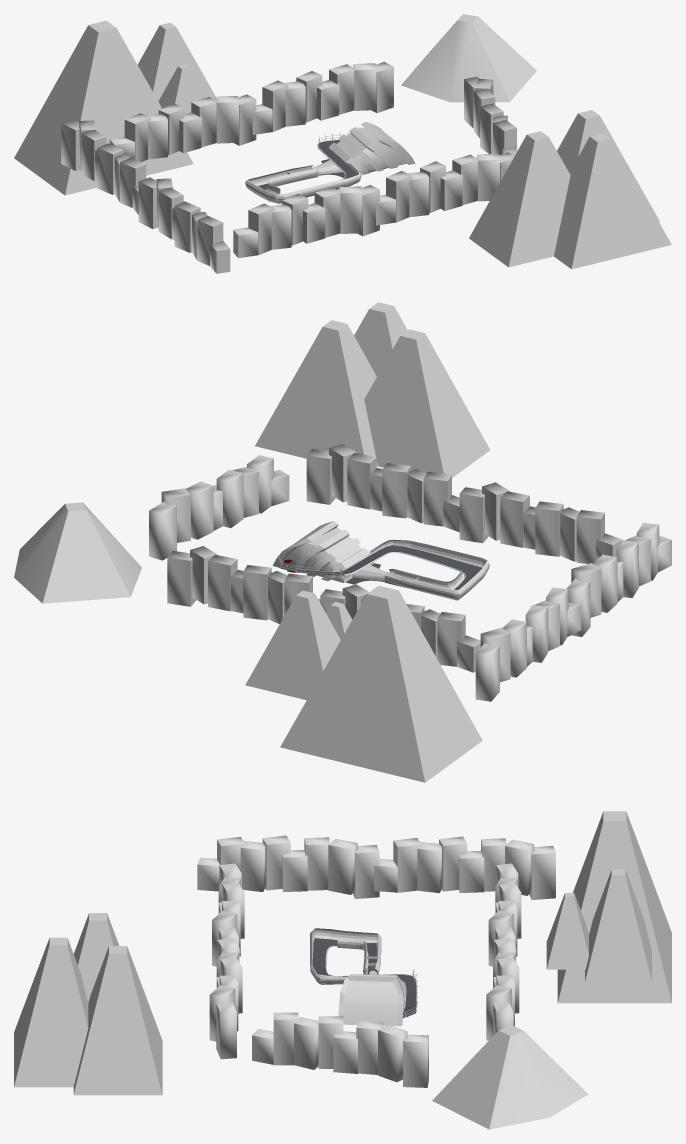
File: PistaNascar.fbx
The picture shows the model from 3 angles, top to bottom: view 1: azimuth 30°, elevation 25°; view 2: azimuth 150°, elevation 25°; view 3: azimuth 270°, elevation 25°; orthographic projection. The views are drawn at different scales.
Parts seen in each view (by area): view 1: Box011, Object005, Box004, Object006, Ruta; view 2: Box011, Object005, Box004, Object006, Ruta; view 3: Box011, Object005, Box004, Object006, Ruta.
Part boxes in pixels (<box>): Box011: <box>14,14,671,269</box>; Object005: <box>61,62,517,273</box>; Box004: <box>311,122,415,175</box>; Object006: <box>245,162,361,203</box>; Ruta: <box>258,140,406,190</box>; Box011: <box>14,302,489,782</box>; Object005: <box>149,444,671,701</box>; Box004: <box>272,521,385,582</box>; Object006: <box>368,539,489,600</box>; Ruta: <box>279,545,482,589</box>; Box011: <box>14,811,671,1129</box>; Object005: <box>197,835,555,1087</box>; Box004: <box>338,970,405,1026</box>; Object006: <box>310,928,381,984</box>; Ruta: <box>312,938,416,1017</box>.
Bounding box in the file's own units: 64707 × 19772 × 72714.
Materials: 2 (1 with a texture image).
